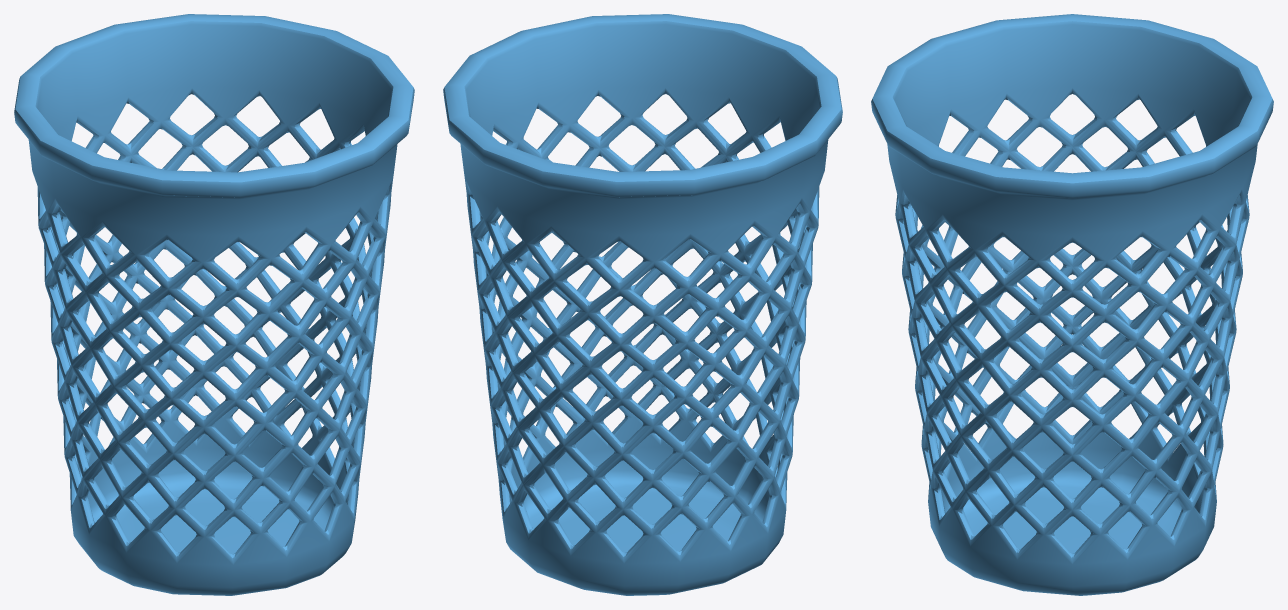
File: basket_002.fbx
The picture shows the model from 3 angles, left to right: view 1: azimuth 30°, elevation 25°; view 2: azimuth 150°, elevation 25°; view 3: azimuth 270°, elevation 25°; orthographic projection.
Visible parts, largest first — view 1: basket; view 2: basket; view 3: basket.
Part boxes in pixels (x1=…): basket: x1=14, y1=14, x2=414, y2=595; basket: x1=443, y1=14, x2=842, y2=595; basket: x1=871, y1=14, x2=1273, y2=595.
Size of the model in its own units: 44.06 by 54.1 by 44.06.
